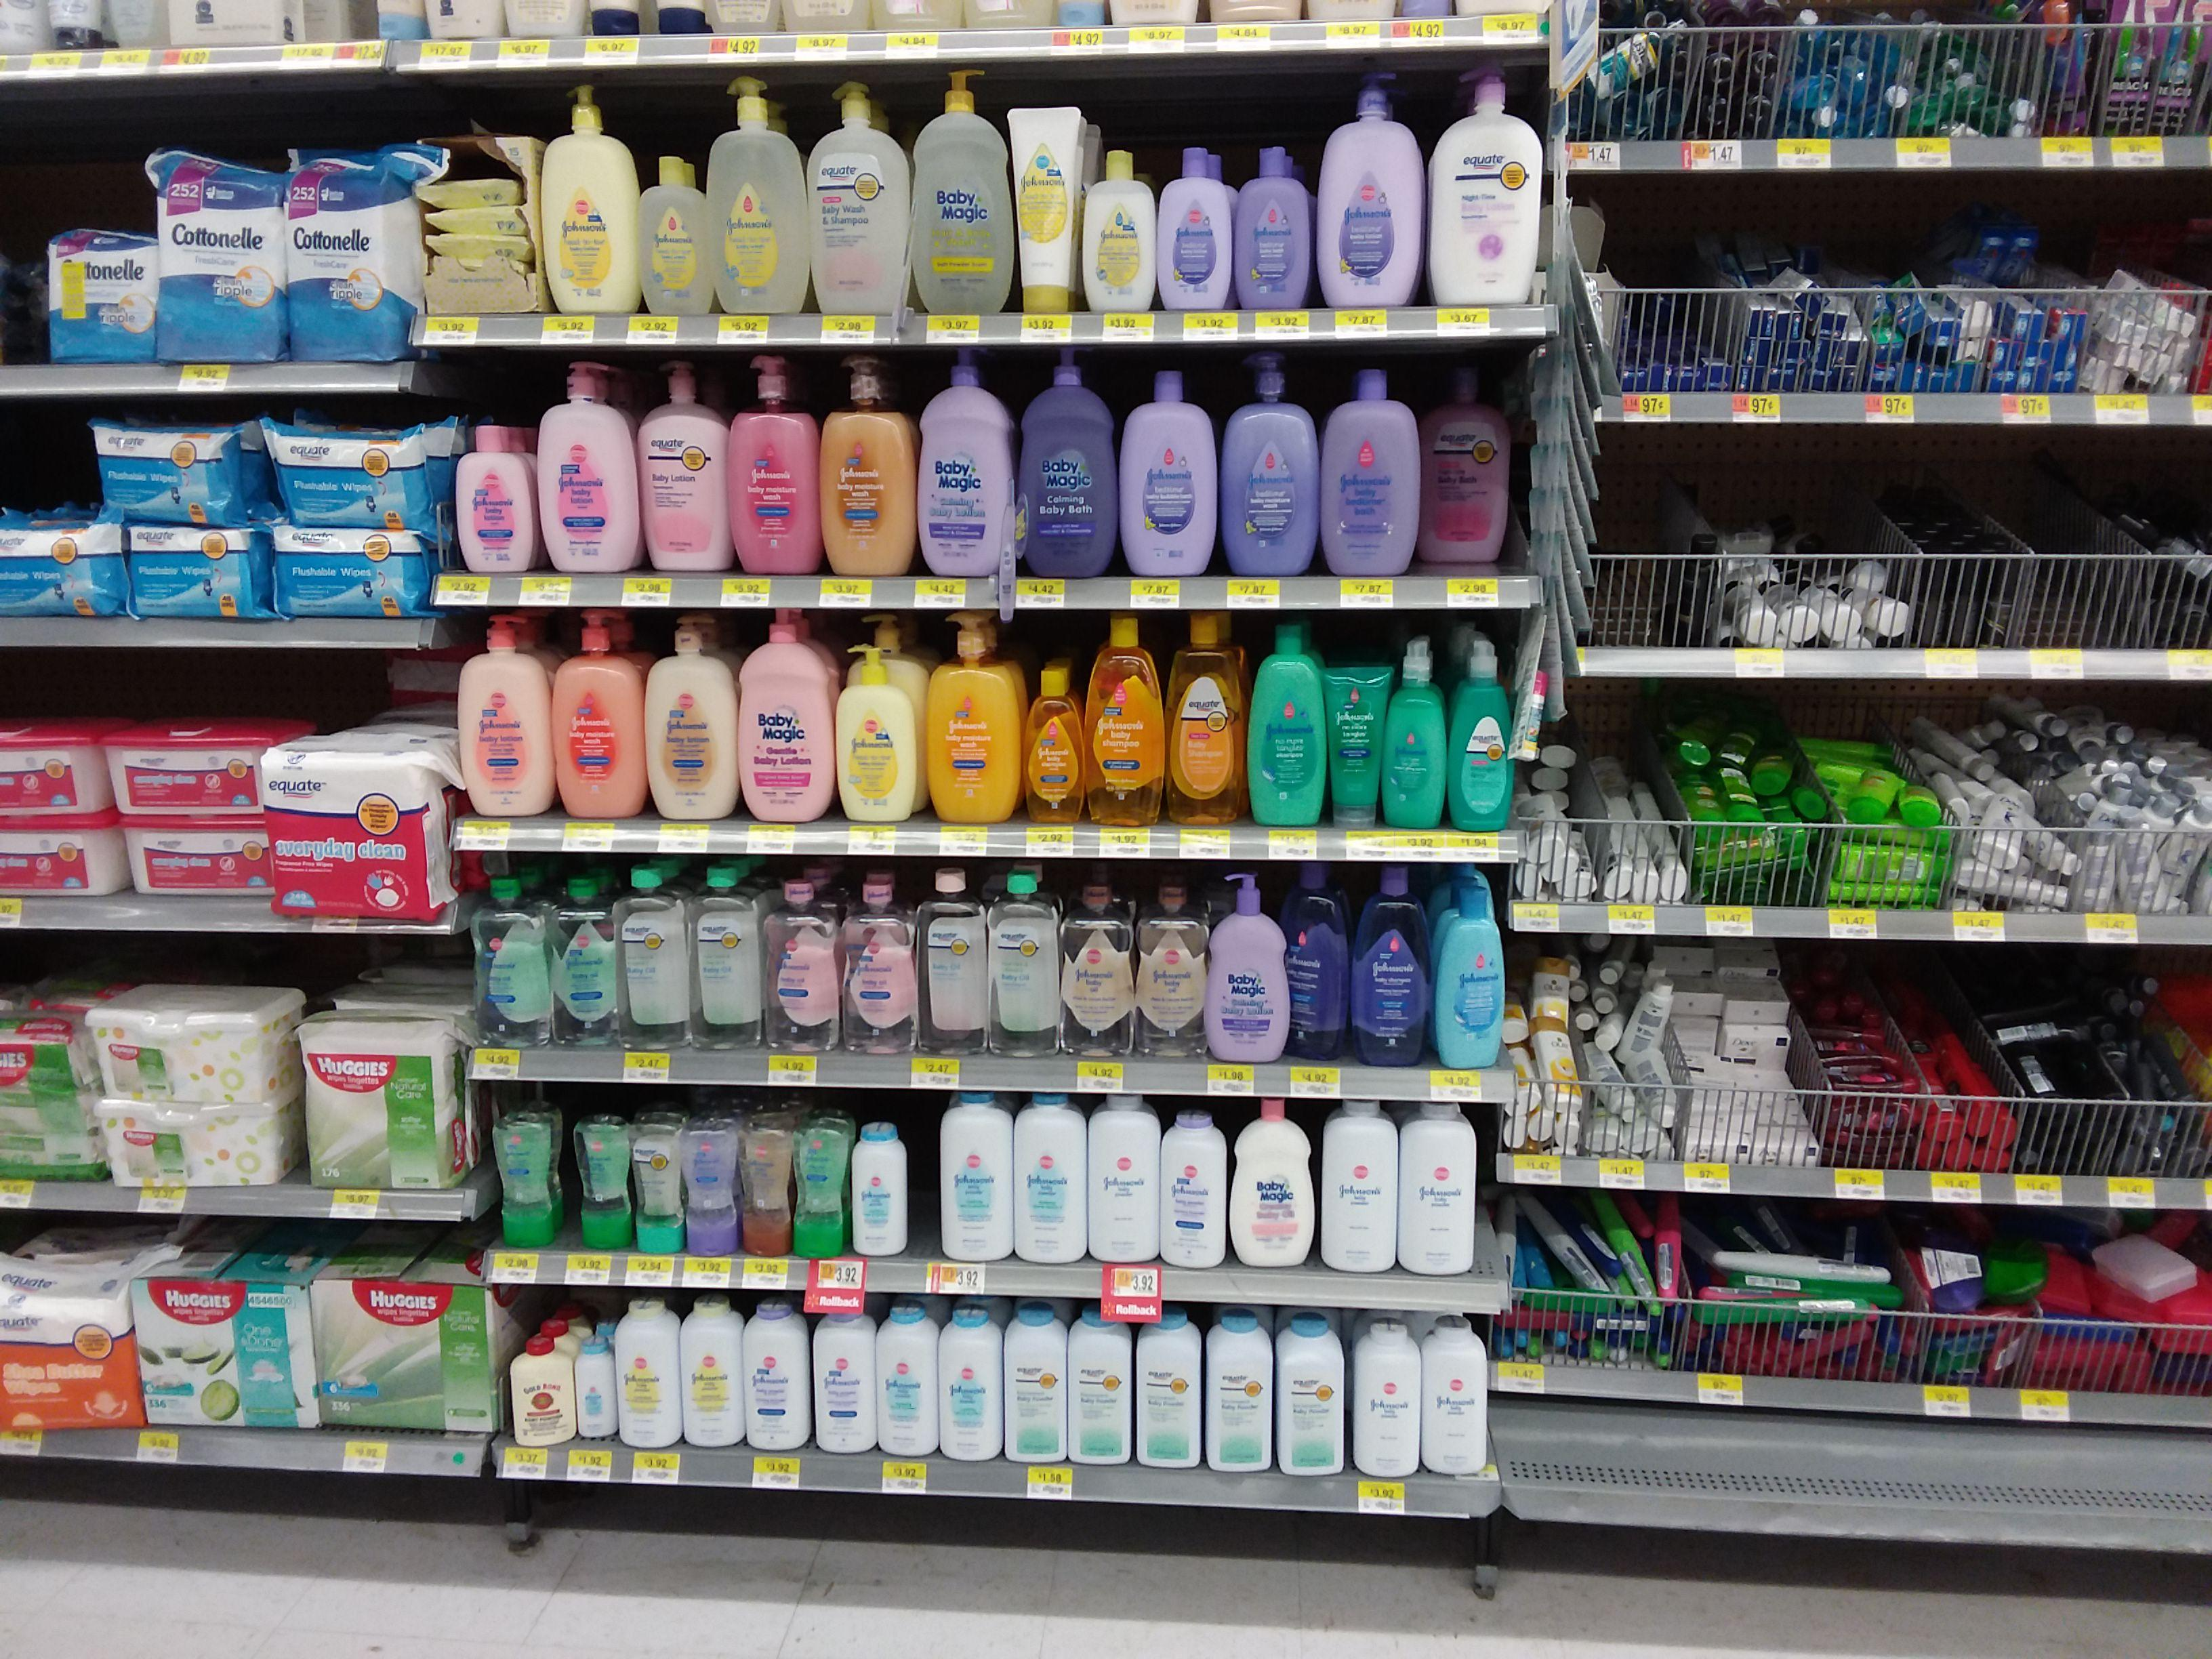empty: (54, 131, 153, 232), (1597, 455, 1695, 556), (0, 422, 98, 521), (906, 1112, 944, 1260)
